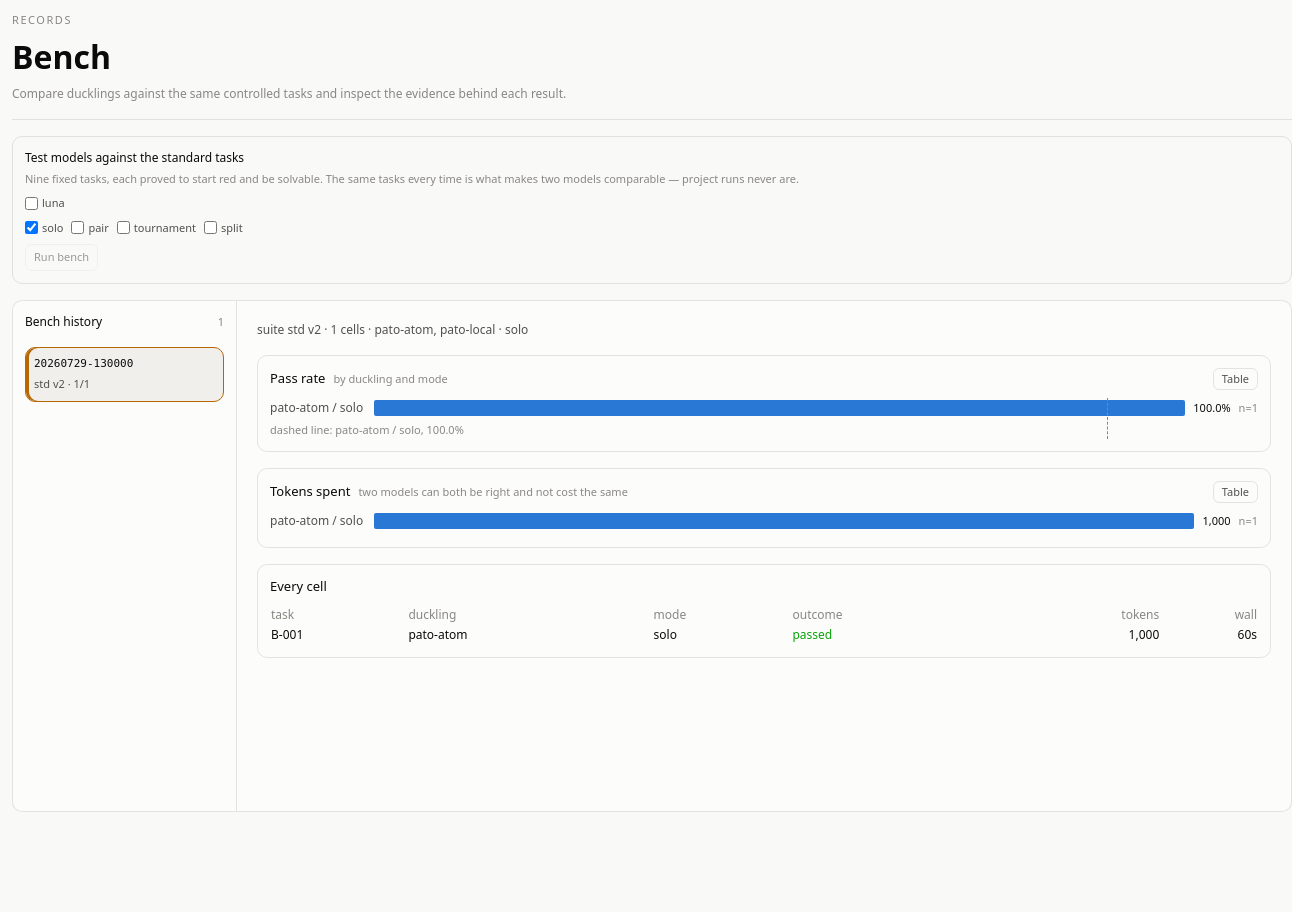
Test: Reports — Bench tab › starting a bench from the desktop › starts it and says the cells are watchable as runs
Click the checkbox with test id "bench-duckling-luna" at (32, 203), box [25,197,38,210]
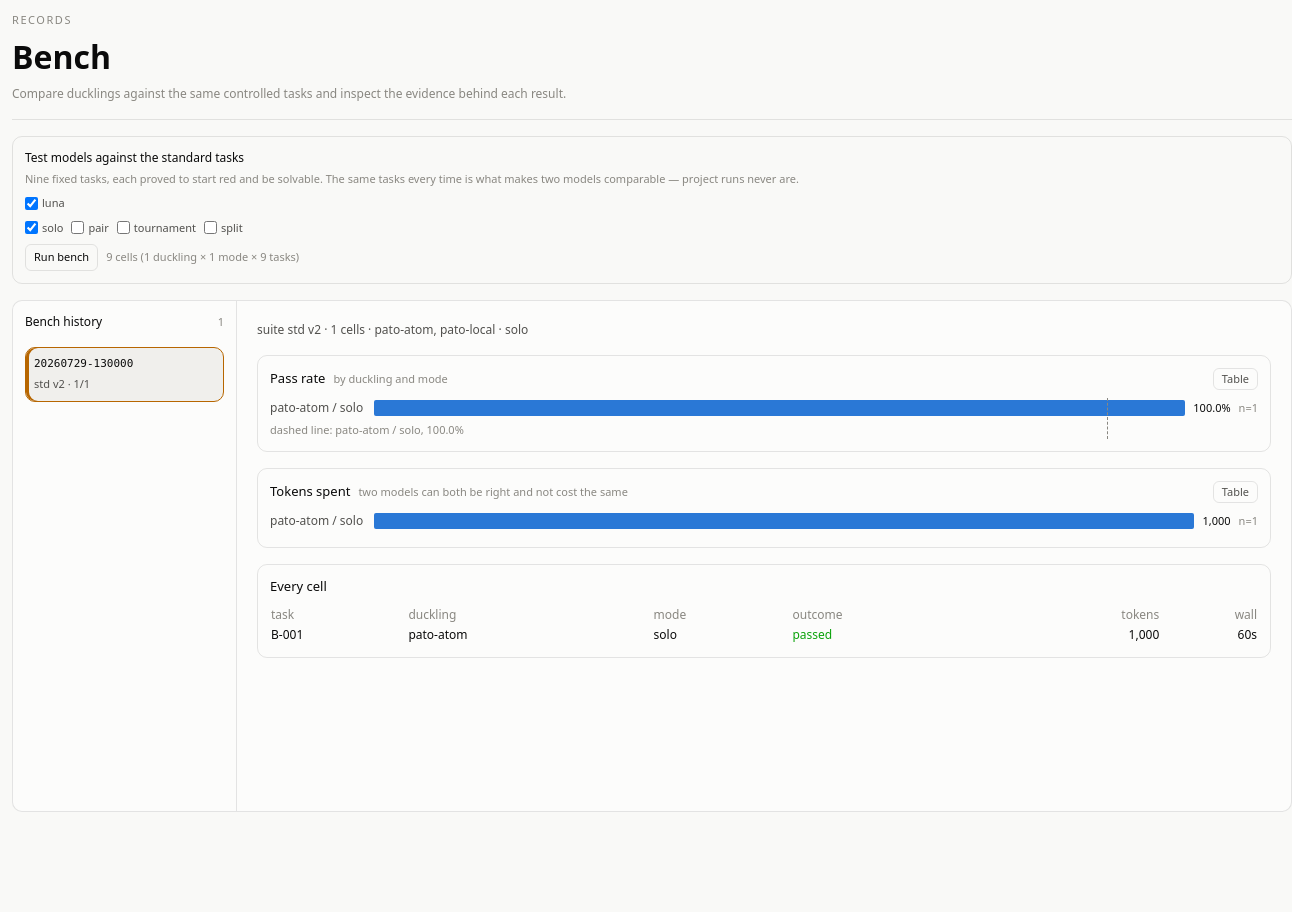
Click the button with test id "bench-start" at (62, 257), box [25,244,98,270]
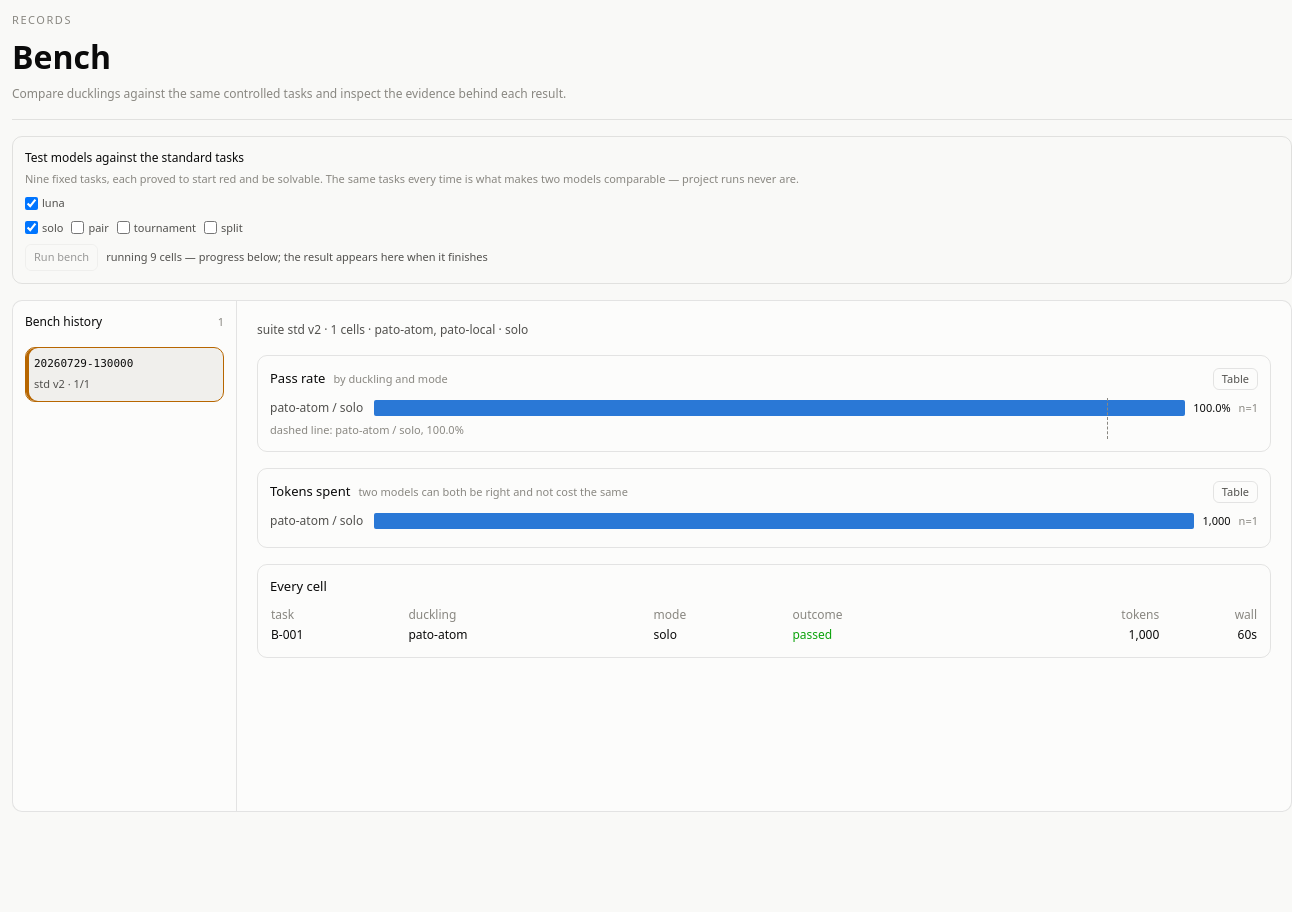
Expected: the text with test id "bench-running" shows "progress below", [182,249,488,264]
